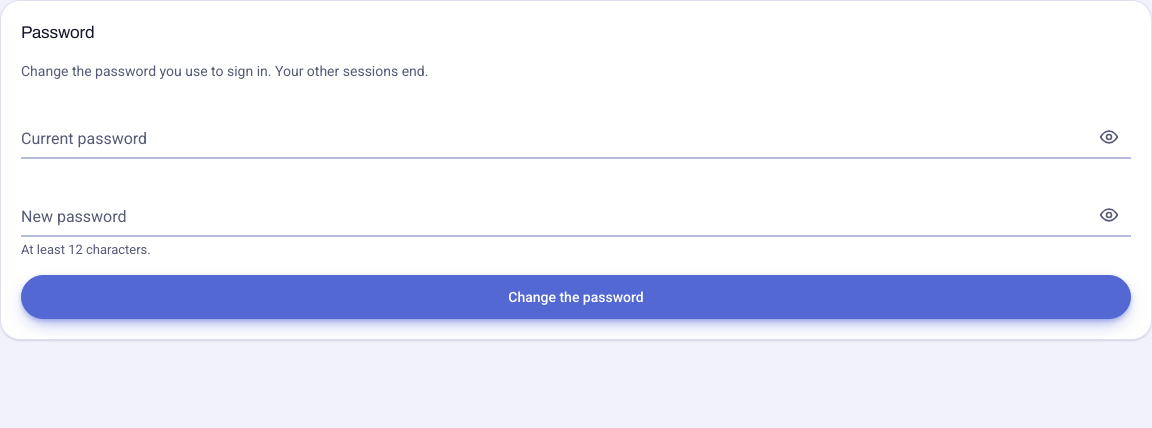
Test case: ChangePasswordCard › sends the two passwords and says it is done
This screenshot has width=1152, height=428.
Type "the old one" into the password field with test id "change-password-current" at (576, 137), box [21,115,1131,159]
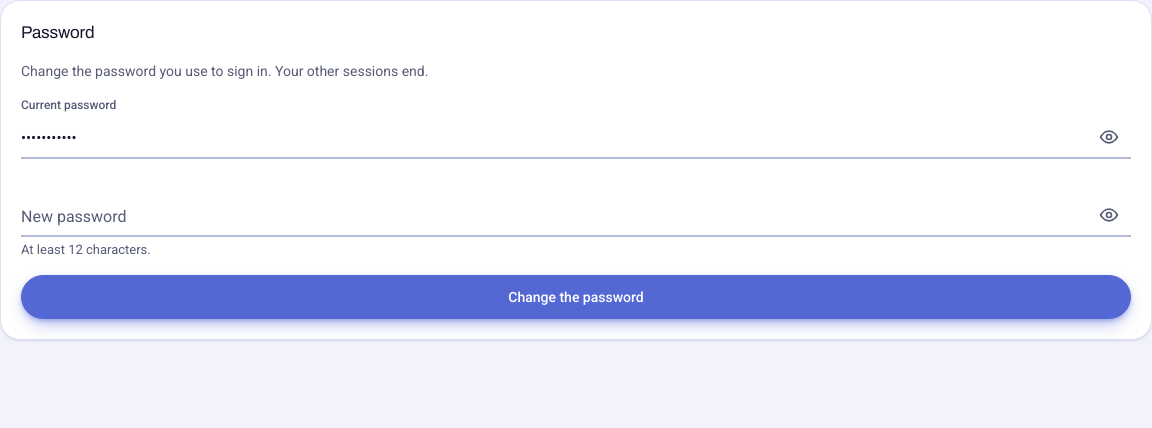
Type "a brand new password" into the password field with test id "change-password-new" at (576, 215), box [21,193,1131,237]
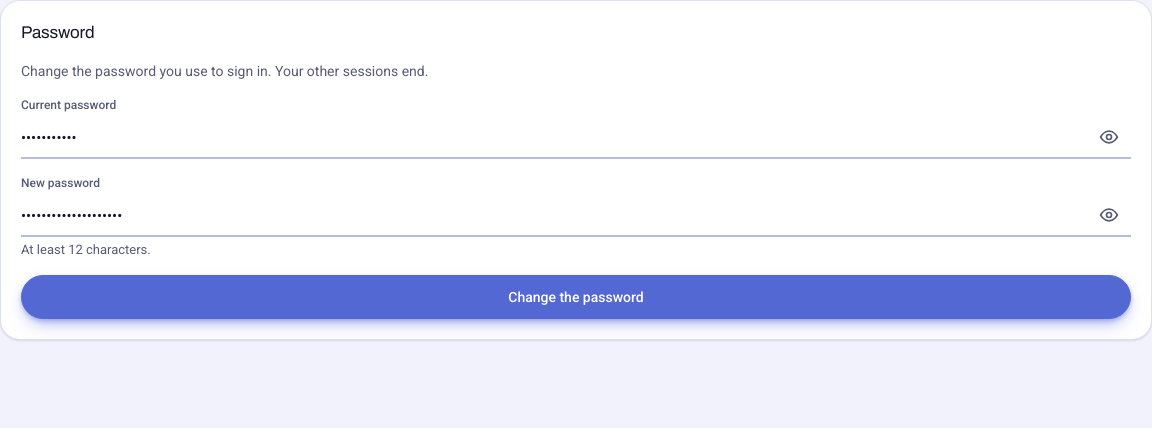
Click the button with test id "change-password-submit" at (576, 297), box [21,275,1131,319]
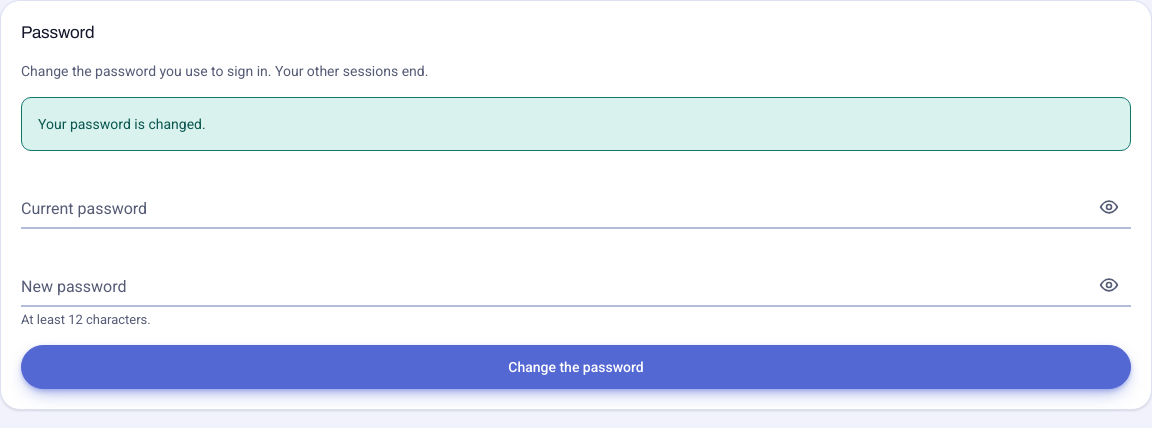
Expected: the message "Your password is changed." is shown, [21,97,1131,151]
